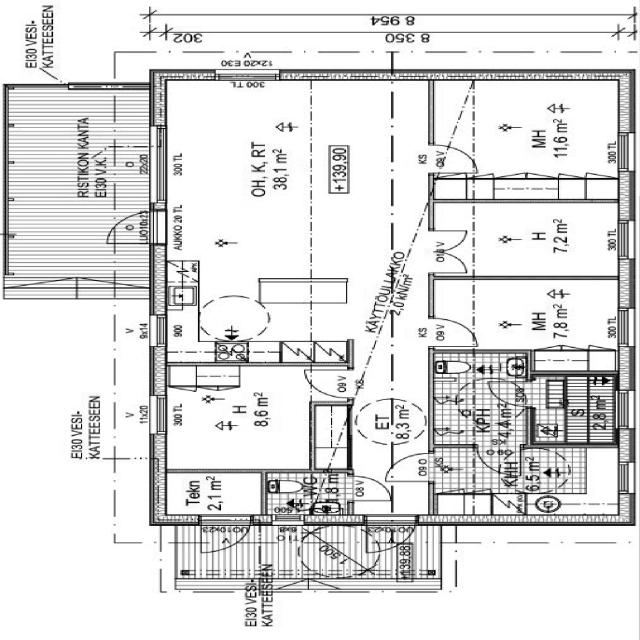door: (430, 232, 473, 274), (106, 211, 153, 247), (200, 522, 248, 556), (429, 317, 478, 347), (387, 452, 434, 483), (432, 145, 478, 173), (350, 474, 392, 501), (354, 399, 394, 421), (489, 381, 521, 406), (305, 576, 344, 593)
window: (145, 125, 174, 209), (146, 392, 172, 436), (214, 69, 283, 84), (616, 219, 639, 262), (616, 131, 638, 175), (616, 306, 638, 349), (423, 276, 444, 320), (614, 388, 635, 431), (148, 313, 170, 349), (616, 460, 638, 495), (263, 577, 311, 592), (306, 576, 344, 593)
zone: (166, 76, 434, 361), (157, 366, 348, 472), (437, 81, 625, 180), (436, 201, 625, 278), (439, 279, 623, 351), (521, 444, 628, 514), (431, 378, 529, 448), (156, 472, 265, 520), (263, 471, 359, 519), (432, 446, 528, 492), (445, 179, 617, 202), (432, 351, 529, 382), (530, 350, 622, 374), (354, 399, 396, 420)
